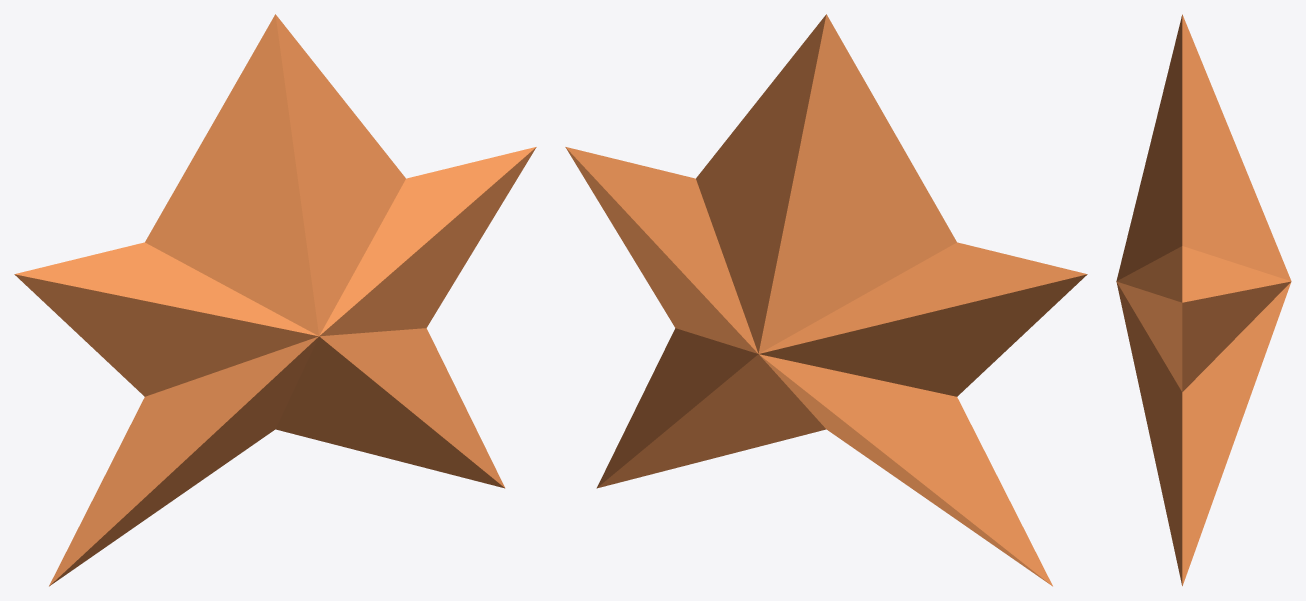
File: star.fbx
The picture shows the model from 3 angles, left to right: view 1: azimuth 30°, elevation 25°; view 2: azimuth 150°, elevation 25°; view 3: azimuth 270°, elevation 25°; orthographic projection. The views are drawn at different scales.
Parts seen in each view (by area): view 1: Layer0_001; view 2: Layer0_001; view 3: Layer0_001.
Boxes of the visible parts, x1,y1,x2,y2 form: Layer0_001: (14, 14, 536, 586); Layer0_001: (565, 14, 1087, 586); Layer0_001: (1116, 14, 1291, 586).
Bounding box in the file's own units: 166 × 161 × 53.97.
